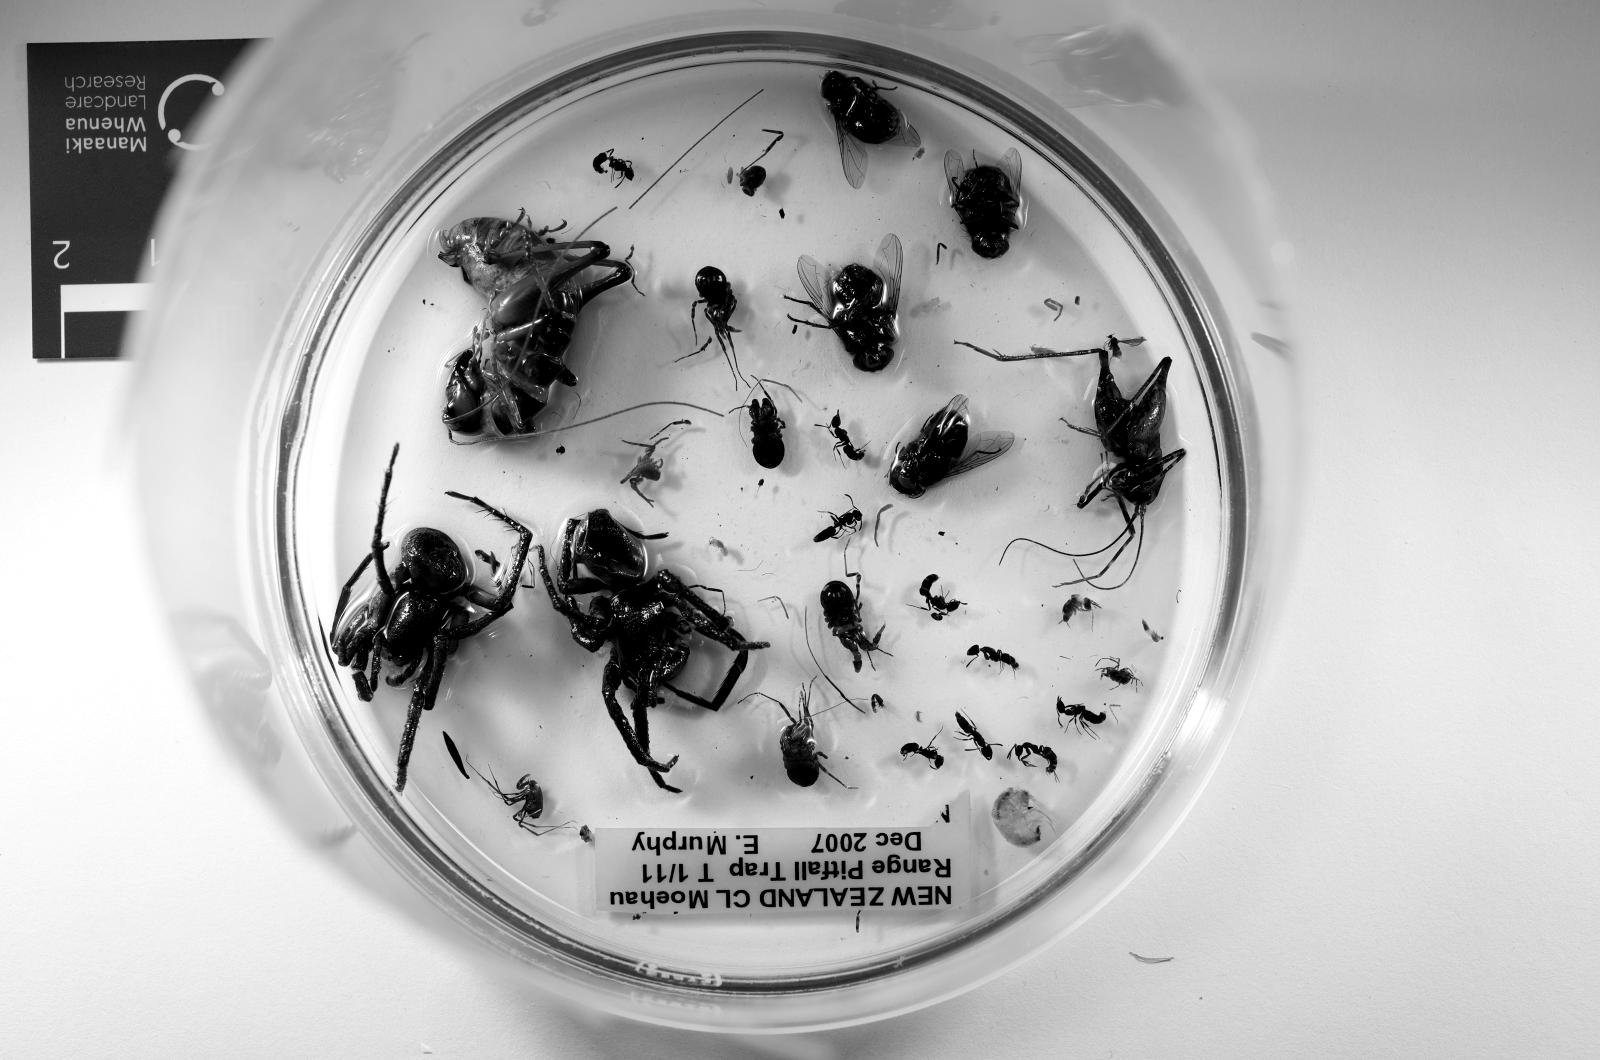amphipoda: (991, 789, 1050, 848)
araneae: (331, 447, 531, 789), (538, 509, 769, 791), (1097, 658, 1141, 690)
diptera: (791, 233, 903, 373), (887, 394, 1012, 497), (822, 71, 919, 189), (944, 149, 1022, 258), (1122, 621, 1162, 658), (1106, 336, 1147, 357)
formicidae: (818, 413, 866, 459), (953, 711, 993, 761), (919, 575, 966, 614), (1006, 742, 1060, 776), (1056, 699, 1106, 733), (816, 509, 862, 543), (594, 149, 634, 187), (966, 646, 1018, 671), (900, 742, 944, 770)
opiliones: (818, 575, 885, 674), (691, 267, 740, 388), (481, 774, 565, 835), (778, 686, 828, 786), (747, 394, 784, 468)
orthoptera: (957, 336, 1185, 552), (441, 211, 634, 435)
